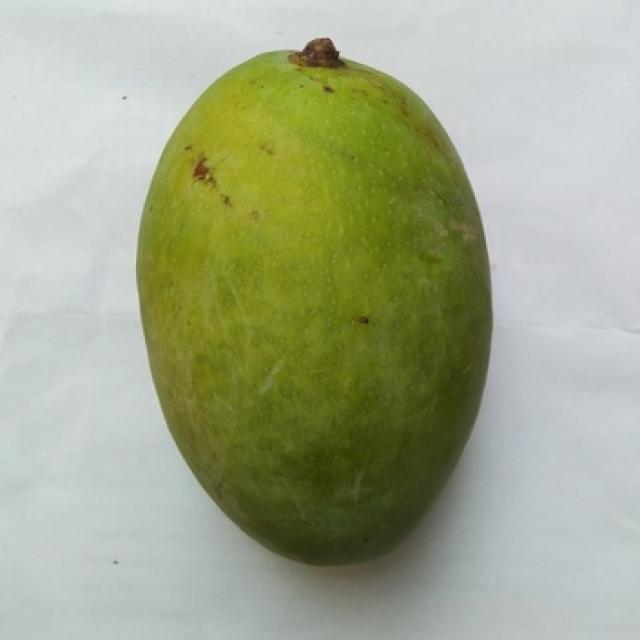Mango: (138, 39, 491, 563)
